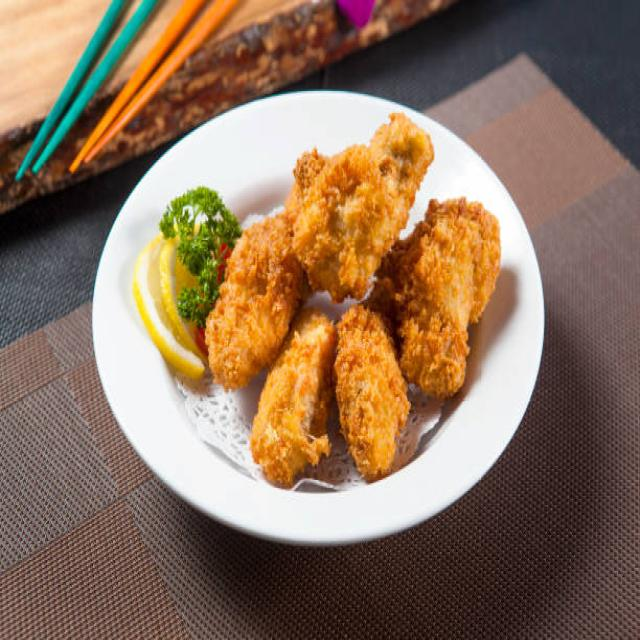Frango: (202, 110, 501, 486)
